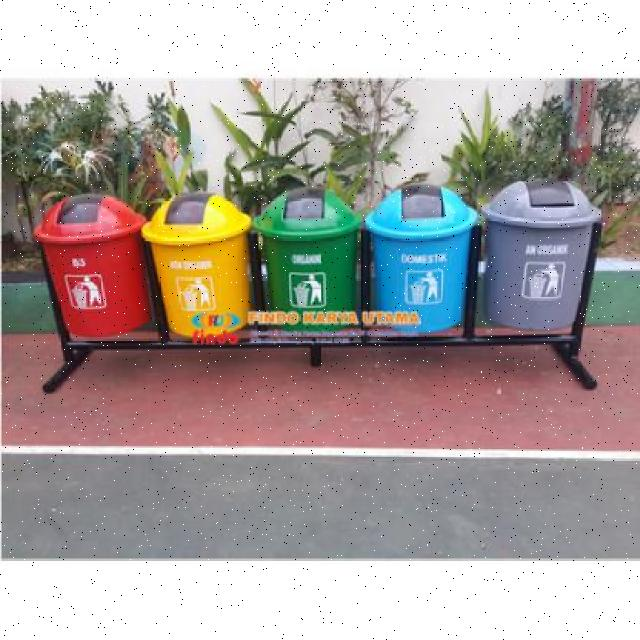garbage container: (477, 174, 611, 348), (360, 181, 480, 336), (29, 192, 151, 343), (250, 180, 362, 334), (146, 189, 252, 348)
